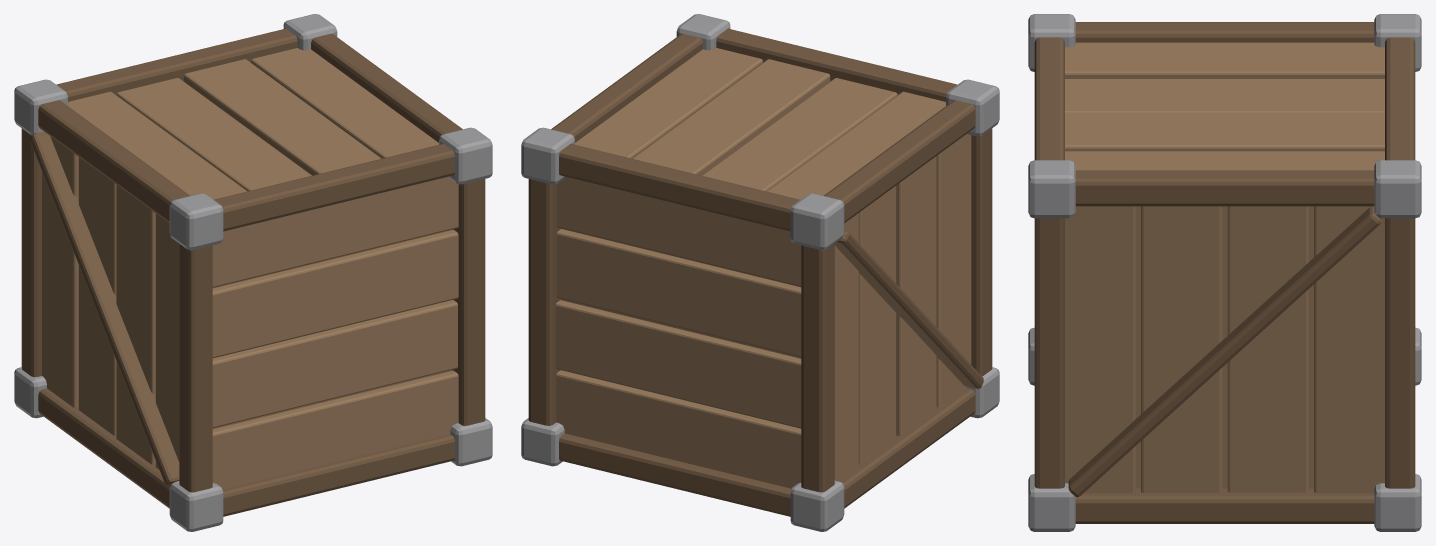
File: crate.glb
3 views of the same model, side by side, from view 1: azimuth 30°, elevation 25°; view 2: azimuth 150°, elevation 25°; view 3: azimuth 270°, elevation 25° (orthographic). The views are drawn at different scales.
Visible parts, largest first — view 1: Crate; view 2: Crate; view 3: Crate.
Part boxes in pixels (x1,y1,x2,y2): Crate: (14,14,492,531); Crate: (521,14,999,531); Crate: (1028,14,1421,531).
Bounding box in the file's own units: 0.92 × 0.91 × 0.91.
